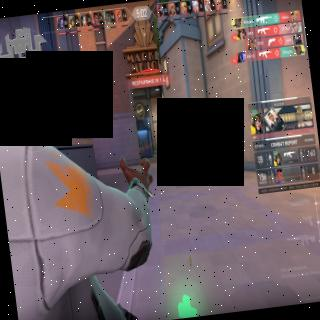ENEMY-BODY: (158, 136, 164, 156)
ENEMY-HEAD: (159, 137, 161, 140)
